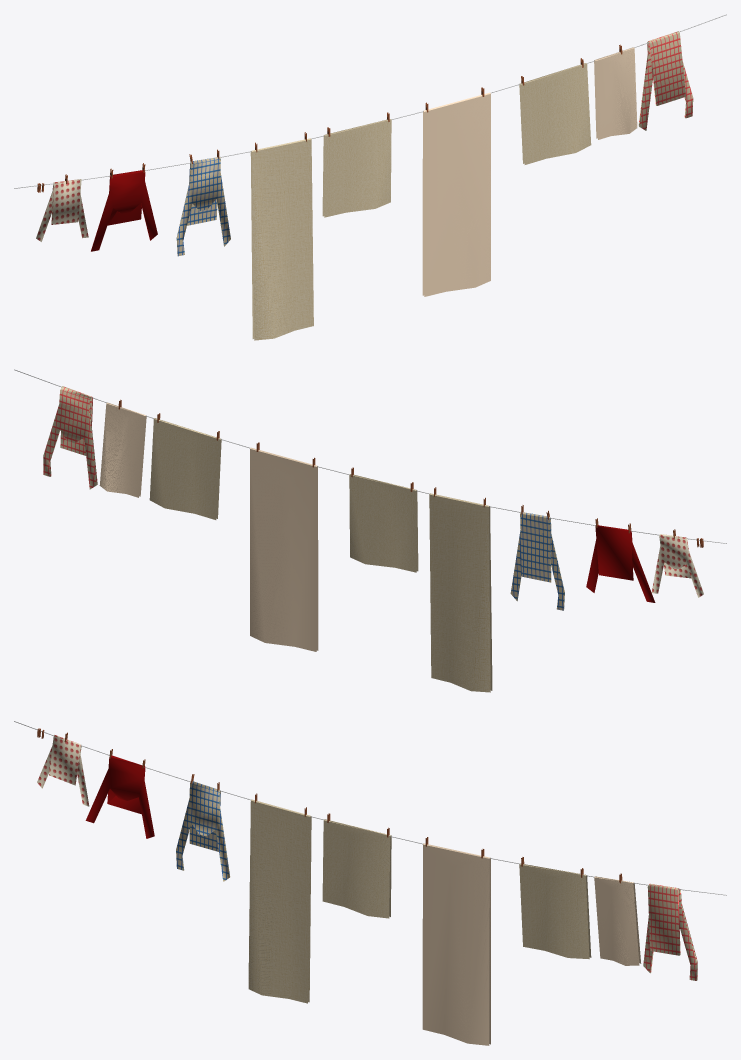
The model's file is clothes_line.obj.
3 views of the same model, one above another, from view 1: azimuth 30°, elevation 25°; view 2: azimuth 150°, elevation 25°; view 3: azimuth 330°, elevation 25° (orthographic).
Visible parts, largest first — view 1: 3_3, 2_2, 5_5, 4_4, 8_8, 10_10, 6_6, 7_7, 9_9; view 2: 3_3, 2_2, 4_4, 5_5, 8_8, 10_10, 6_6, 7_7, 9_9; view 3: 3_3, 2_2, 5_5, 4_4, 8_8, 10_10, 6_6, 7_7, 9_9.
Boxes of the visible parts, x1,y1,x2,y2 form: 3_3: (422,92,490,296); 2_2: (250,138,313,340); 5_5: (322,119,391,217); 4_4: (519,63,591,164); 8_8: (594,47,637,139); 10_10: (638,31,693,130); 6_6: (176,157,230,256); 7_7: (91,170,157,251); 9_9: (36,179,88,241); 3_3: (250,447,318,651); 2_2: (429,493,492,692); 4_4: (149,418,221,519); 5_5: (349,474,418,572); 8_8: (99,402,146,497); 10_10: (43,386,97,489); 6_6: (510,512,564,610); 7_7: (586,525,655,602); 9_9: (651,534,703,597); 3_3: (422,843,490,1045); 2_2: (248,799,311,1003); 5_5: (322,819,391,918); 4_4: (519,863,591,959); 8_8: (594,876,641,965); 10_10: (643,883,697,980); 6_6: (176,781,230,881); 7_7: (85,755,154,838); 9_9: (37,734,89,806).
Size of the model in its own units: 500 by 140 by 15.
Materials: 9 (4 with a texture image).
